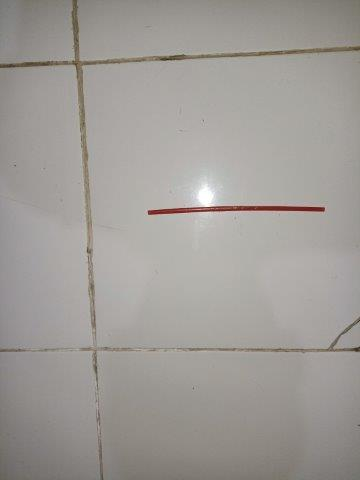sedotan: (148, 205, 325, 215)
